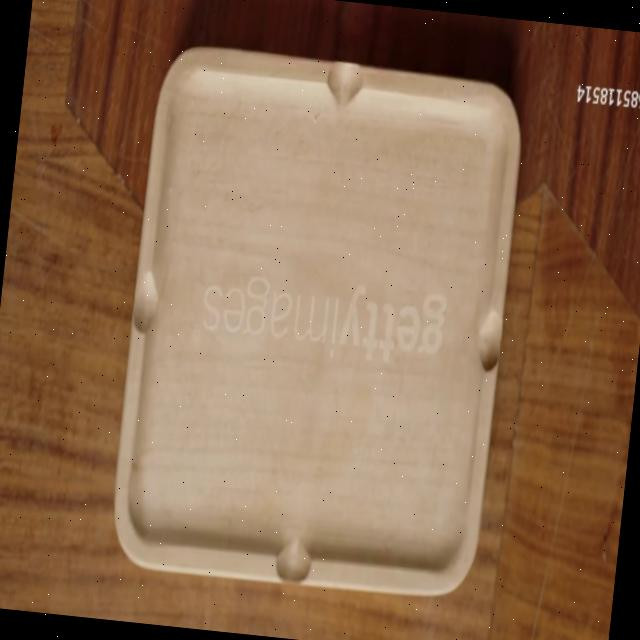tray: (105, 42, 528, 602)
